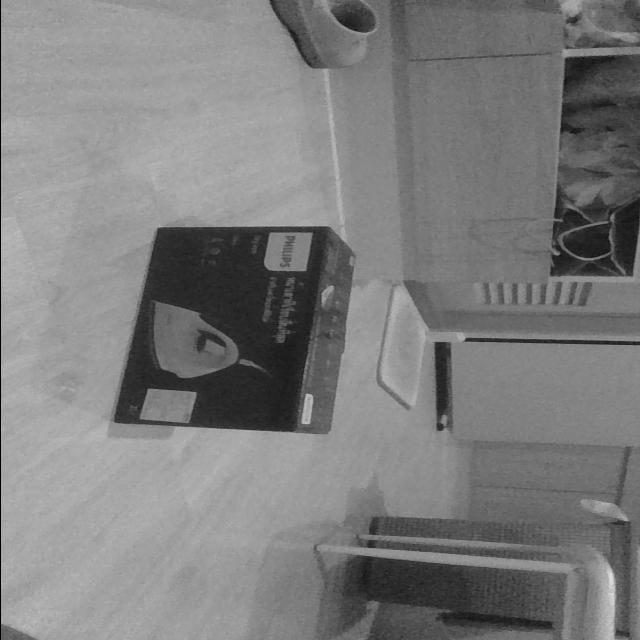IRON: (108, 223, 360, 437)
